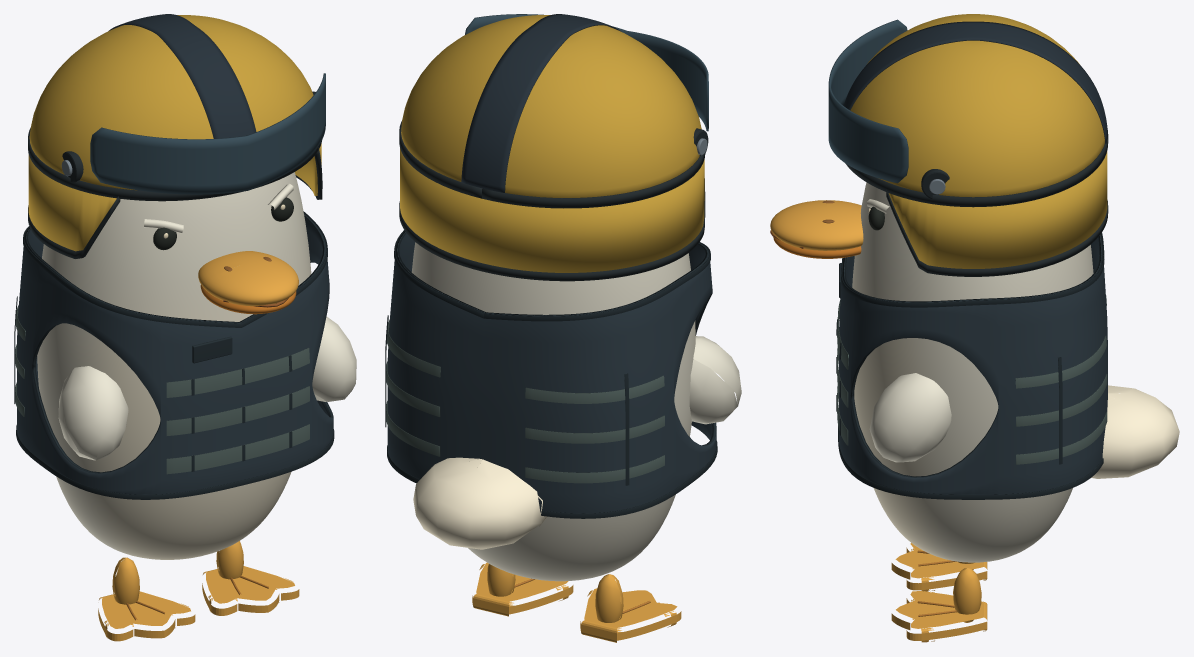
The model's file is goose-headwear-motorcycle-character.glb.
The picture shows the model from 3 angles, left to right: view 1: azimuth 30°, elevation 25°; view 2: azimuth 150°, elevation 25°; view 3: azimuth 270°, elevation 25°; orthographic projection. The views are drawn at different scales.
Parts seen in each view (by area): view 1: goose_headwear_motorcycle_mesh, goose_vest_refined_mesh, goose_torso_mesh, goose_leftArm_mesh, goose_beak_mesh, goose_leftFoot_mesh, goose_rightFoot_mesh, goose_rightArm_mesh; view 2: goose_headwear_motorcycle_mesh, goose_vest_refined_mesh, goose_torso_mesh, goose_tail_mesh, goose_leftFoot_mesh, goose_leftArm_mesh, goose_rightFoot_mesh; view 3: goose_headwear_motorcycle_mesh, goose_vest_refined_mesh, goose_torso_mesh, goose_rightArm_mesh, goose_tail_mesh, goose_beak_mesh, goose_rightFoot_mesh, goose_leftFoot_mesh.
Boxes of the visible parts, x1=… form: goose_headwear_motorcycle_mesh: x1=28, y1=14, x2=325, y2=258; goose_vest_refined_mesh: x1=14, y1=211, x2=334, y2=499; goose_torso_mesh: x1=37, y1=172, x2=311, y2=559; goose_leftArm_mesh: x1=58, y1=366, x2=128, y2=460; goose_beak_mesh: x1=198, y1=251, x2=298, y2=314; goose_leftFoot_mesh: x1=98, y1=557, x2=195, y2=641; goose_rightFoot_mesh: x1=202, y1=541, x2=299, y2=615; goose_rightArm_mesh: x1=312, y1=316, x2=356, y2=401; goose_headwear_motorcycle_mesh: x1=399, y1=14, x2=708, y2=281; goose_vest_refined_mesh: x1=385, y1=230, x2=717, y2=518; goose_torso_mesh: x1=411, y1=242, x2=695, y2=581; goose_tail_mesh: x1=413, y1=457, x2=546, y2=549; goose_leftFoot_mesh: x1=580, y1=574, x2=681, y2=642; goose_leftArm_mesh: x1=689, y1=336, x2=741, y2=424; goose_rightFoot_mesh: x1=472, y1=562, x2=573, y2=616; goose_headwear_motorcycle_mesh: x1=828, y1=14, x2=1108, y2=276; goose_vest_refined_mesh: x1=836, y1=233, x2=1107, y2=499; goose_torso_mesh: x1=852, y1=182, x2=1093, y2=562; goose_rightArm_mesh: x1=869, y1=373, x2=951, y2=462; goose_tail_mesh: x1=1091, y1=385, x2=1179, y2=478; goose_beak_mesh: x1=770, y1=200, x2=863, y2=258; goose_rightFoot_mesh: x1=891, y1=568, x2=987, y2=642; goose_leftFoot_mesh: x1=891, y1=543, x2=987, y2=591.
Size of the model in its own units: 1.1 by 2.1 by 1.37.
